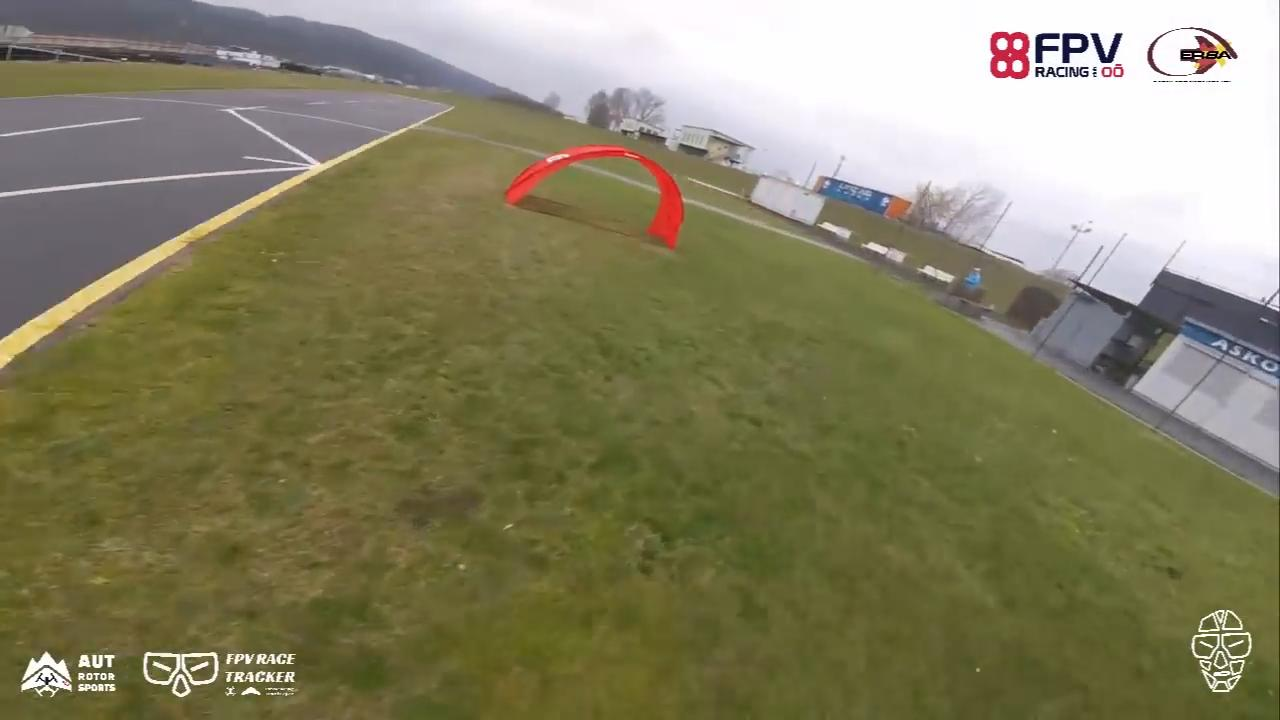gate: (502, 143, 683, 252)
